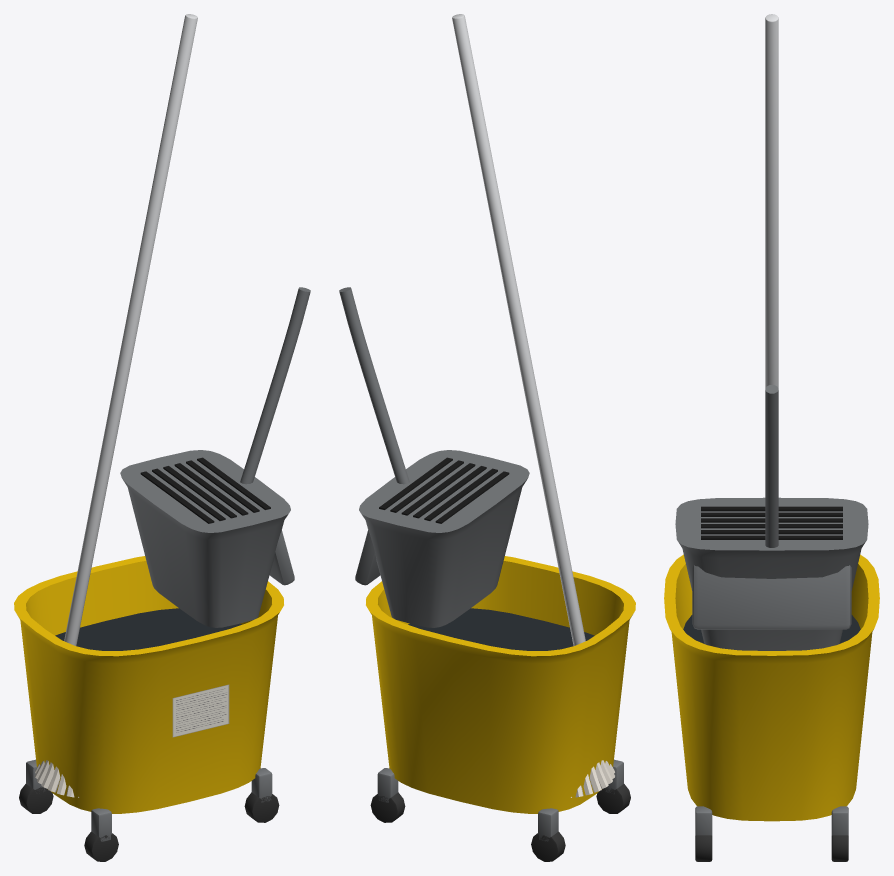
Rendered from MopBucket.fbx.
The picture shows the model from 3 angles, left to right: view 1: azimuth 30°, elevation 25°; view 2: azimuth 150°, elevation 25°; view 3: azimuth 270°, elevation 25°; orthographic projection. The views are drawn at different scales.
Parts seen in each view (by area): view 1: MopBucket; view 2: MopBucket; view 3: MopBucket.
Part boxes in pixels (box(x1,y1,x2,y2)): MopBucket: box(14, 14, 310, 861); MopBucket: box(339, 14, 635, 861); MopBucket: box(664, 14, 879, 861).
Bounding box in the file's own units: 0.5809 × 1.6 × 0.38.
